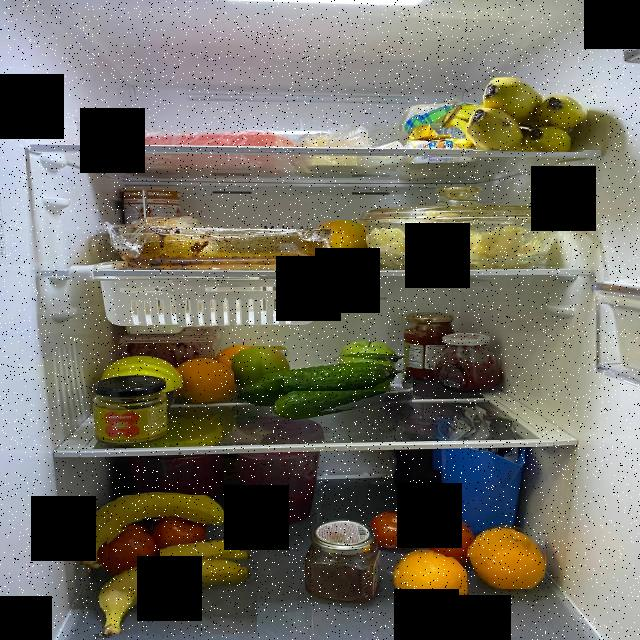Apple: (314, 220, 366, 262), (234, 346, 290, 384), (336, 338, 394, 354)
Banana: (78, 543, 258, 634), (76, 495, 240, 565), (466, 78, 590, 152)
Cucumber: (262, 348, 406, 391), (270, 375, 414, 416), (237, 378, 284, 403)
Orange: (468, 522, 546, 589), (396, 550, 467, 611), (176, 360, 237, 401), (213, 338, 252, 361)
Tomato: (370, 507, 420, 550), (106, 528, 160, 563), (430, 522, 478, 557), (153, 519, 207, 546)
